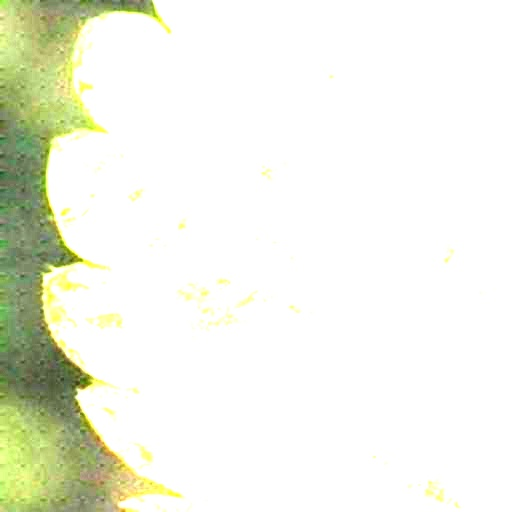Angular Leafspot: (39, 0, 511, 511)
